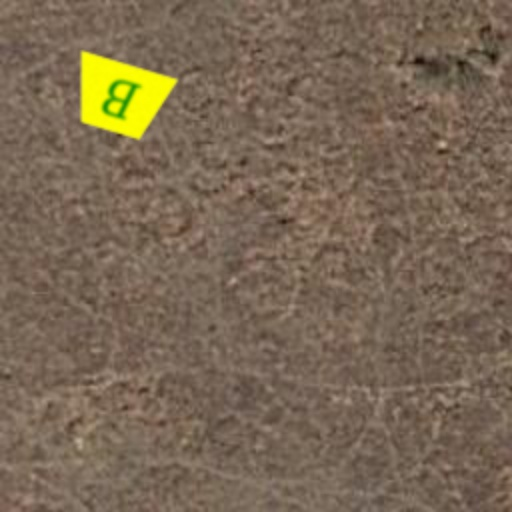trapezoid: (56, 34, 184, 162)
